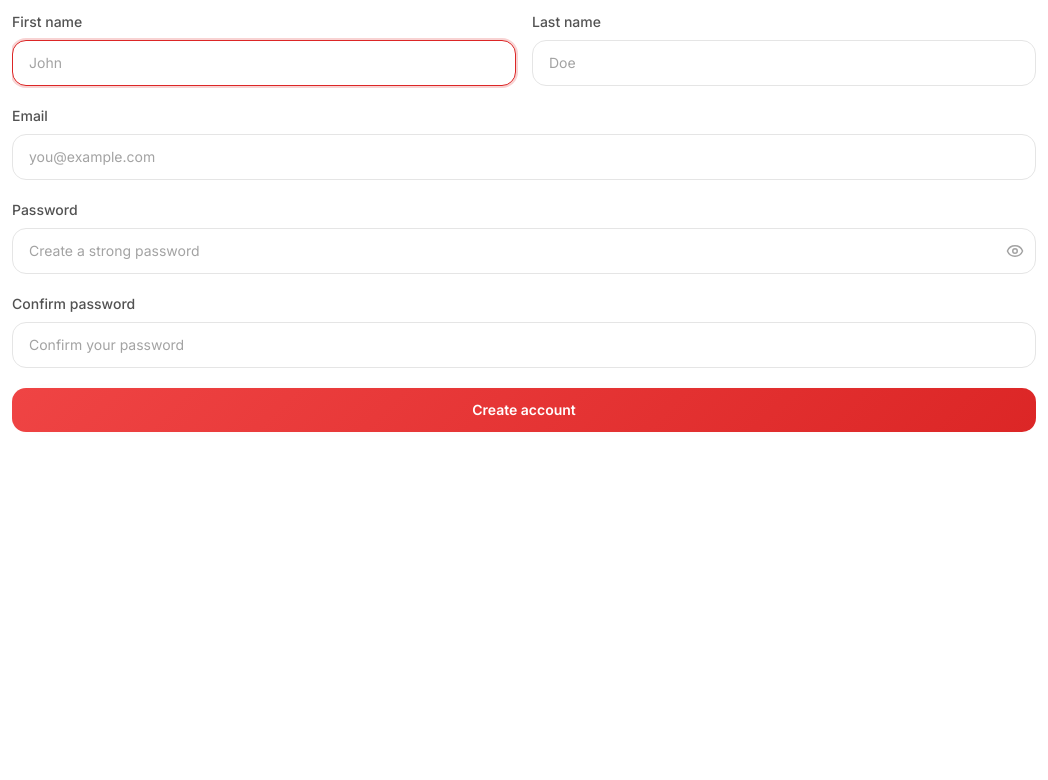
Test case: RegisterForm › shows a general error on failure
In the field with placeholder "John": [264, 63] box [12, 40, 516, 86], type "Ada"
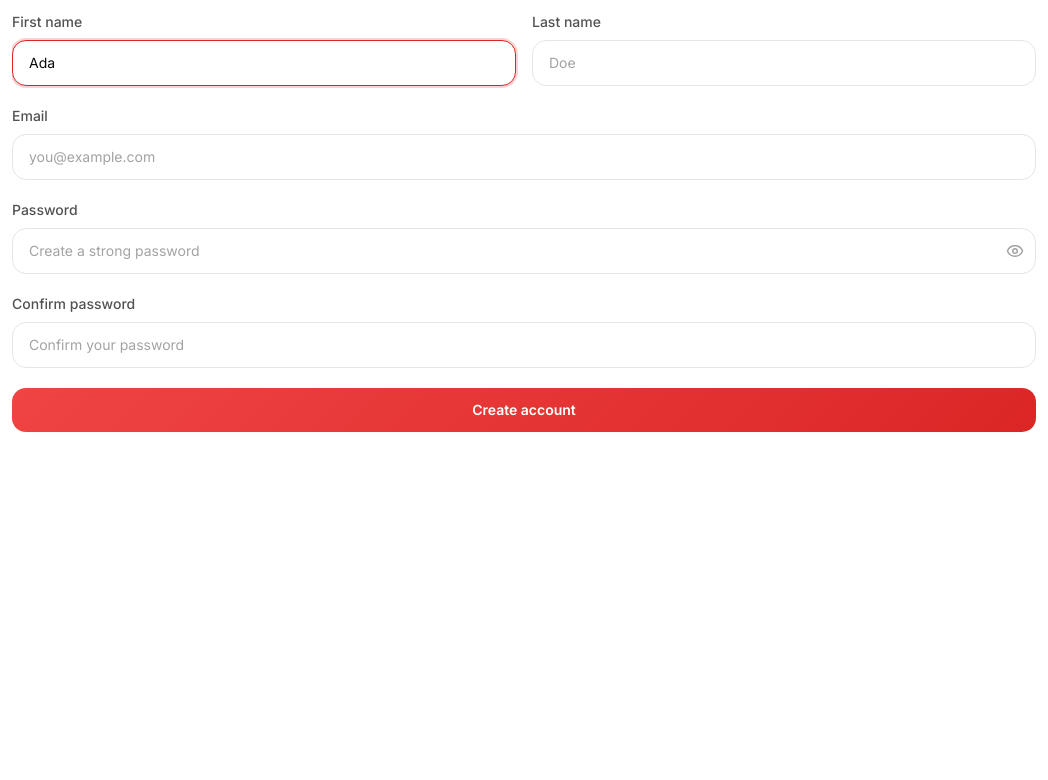
In the field with placeholder "Doe": [784, 63] box [532, 40, 1036, 86], type "Lovelace"
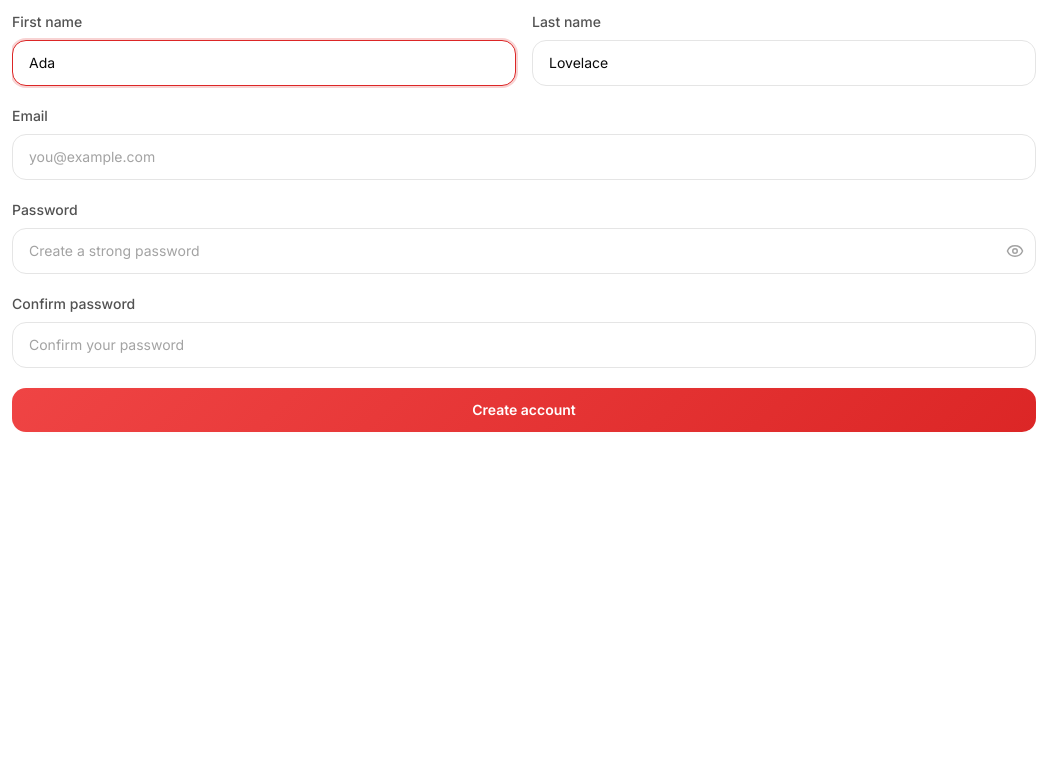
In the field with placeholder "you@example.com": [524, 157] box [12, 134, 1036, 180], type "ada@example.com"
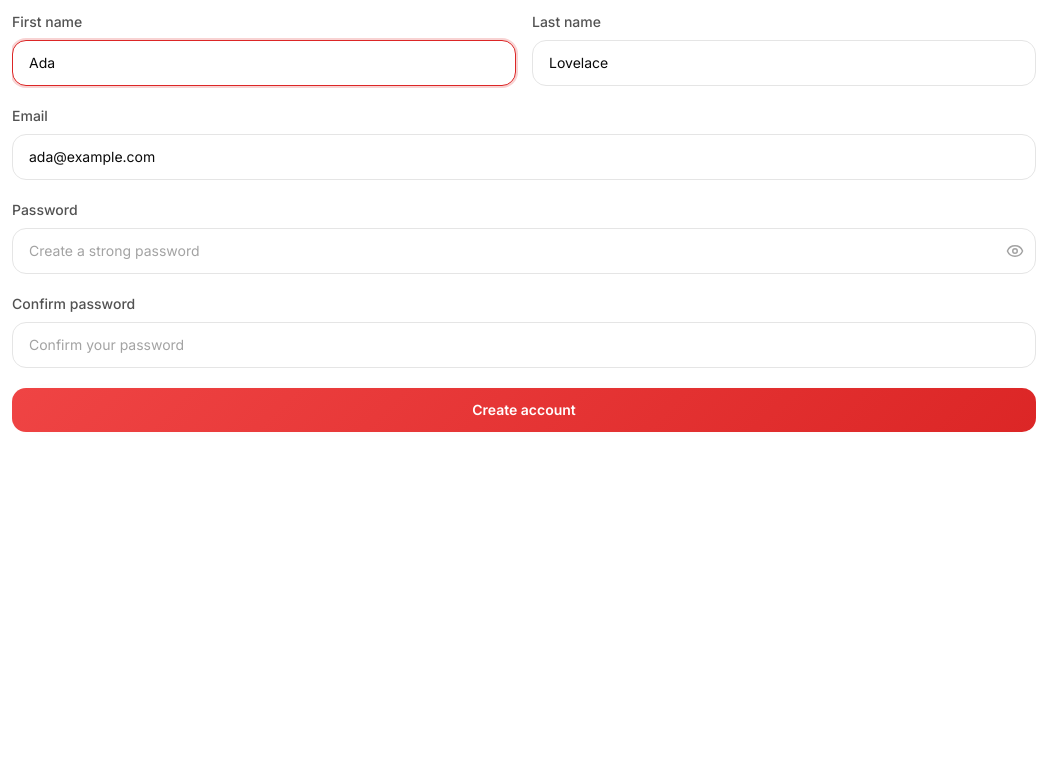
In the password field with placeholder "Create a strong password": [524, 251] box [12, 228, 1036, 274], type "Abcdefgh123!"
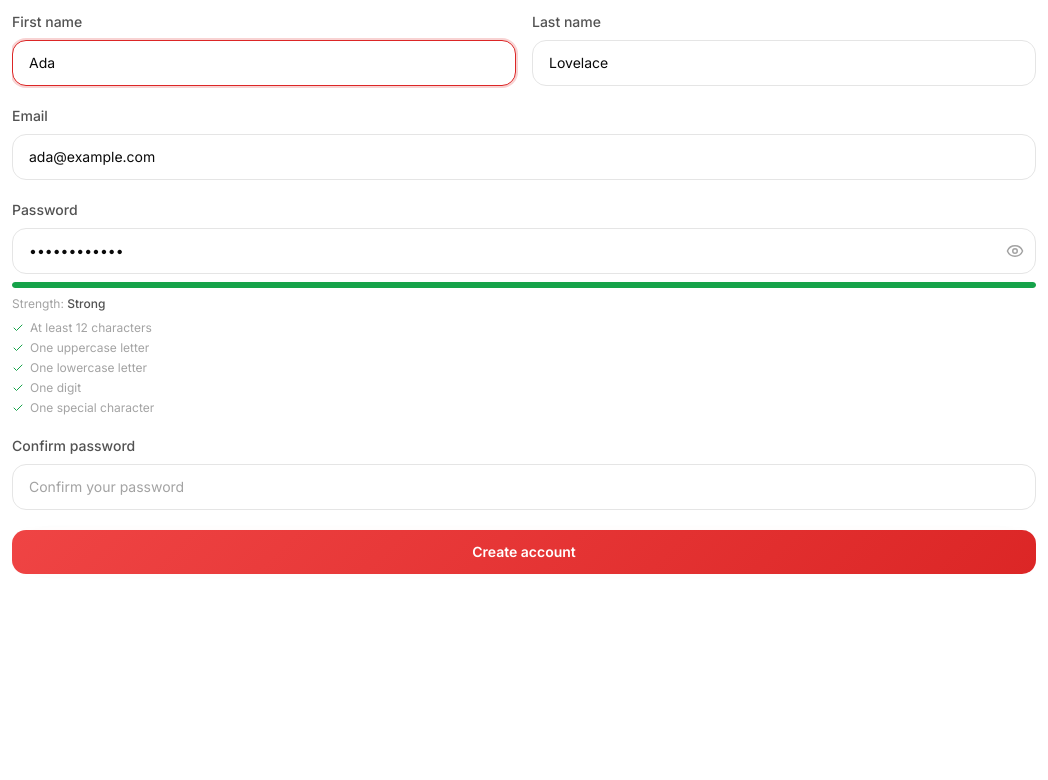
In the password field with placeholder "Confirm your password": [524, 487] box [12, 464, 1036, 510], type "Abcdefgh123!"
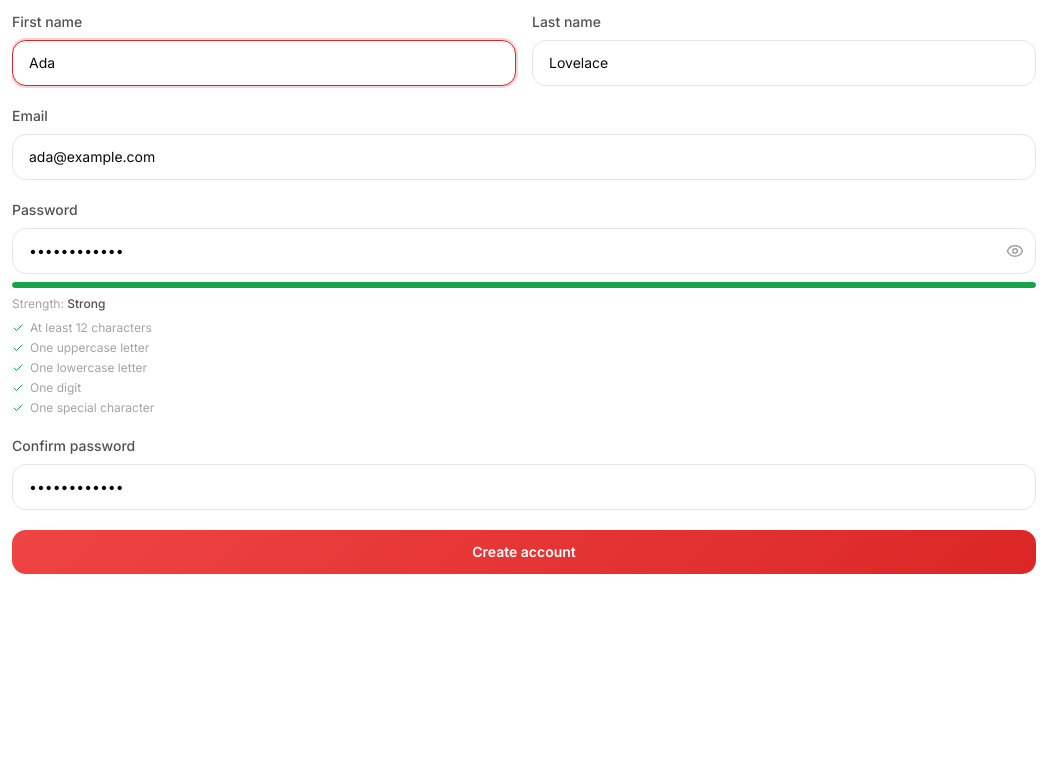
Click the button "Create account": [524, 552] box [12, 530, 1036, 574]
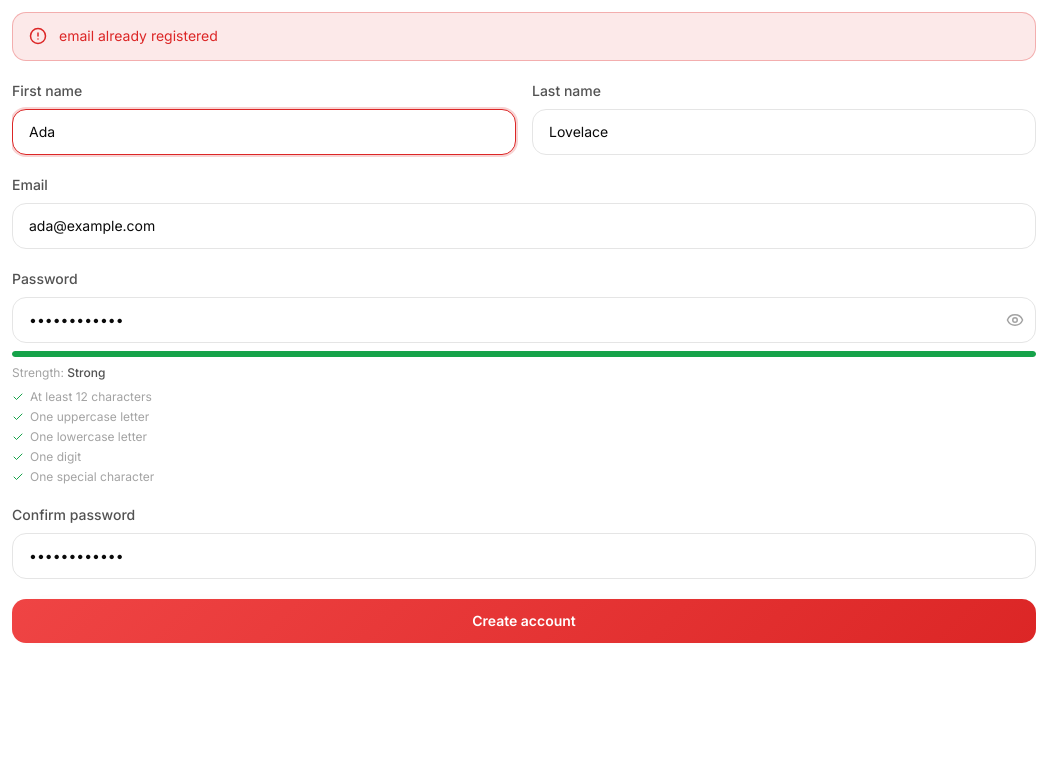
Check: the text "email already registered" is shown, box [59, 27, 218, 44]
